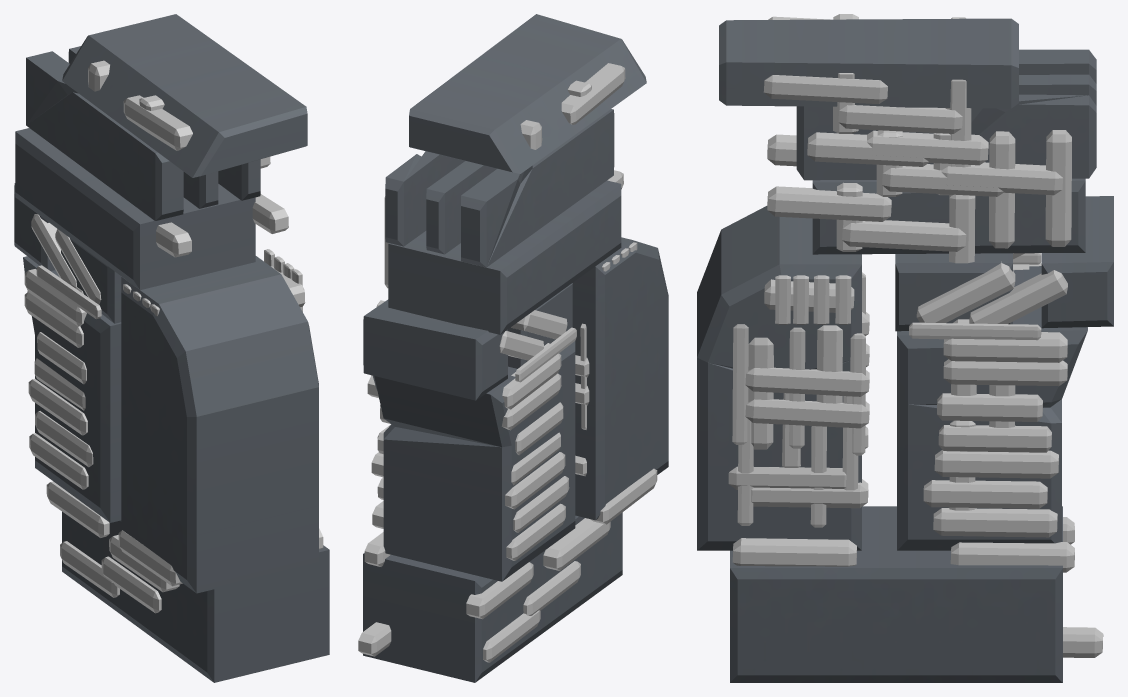
File: muro3.fbx
3 views of the same model, side by side, from view 1: azimuth 30°, elevation 25°; view 2: azimuth 150°, elevation 25°; view 3: azimuth 270°, elevation 25° (orthographic). The views are drawn at different scales.
Visible parts, largest first — view 1: group104; view 2: group104; view 3: group104.
Part boxes in pixels (x1,y1,x2,y2): group104: [14, 14, 329, 682]; group104: [358, 14, 668, 682]; group104: [697, 14, 1113, 682].
Size of the model in its own units: 1664 by 5561 by 3459.
